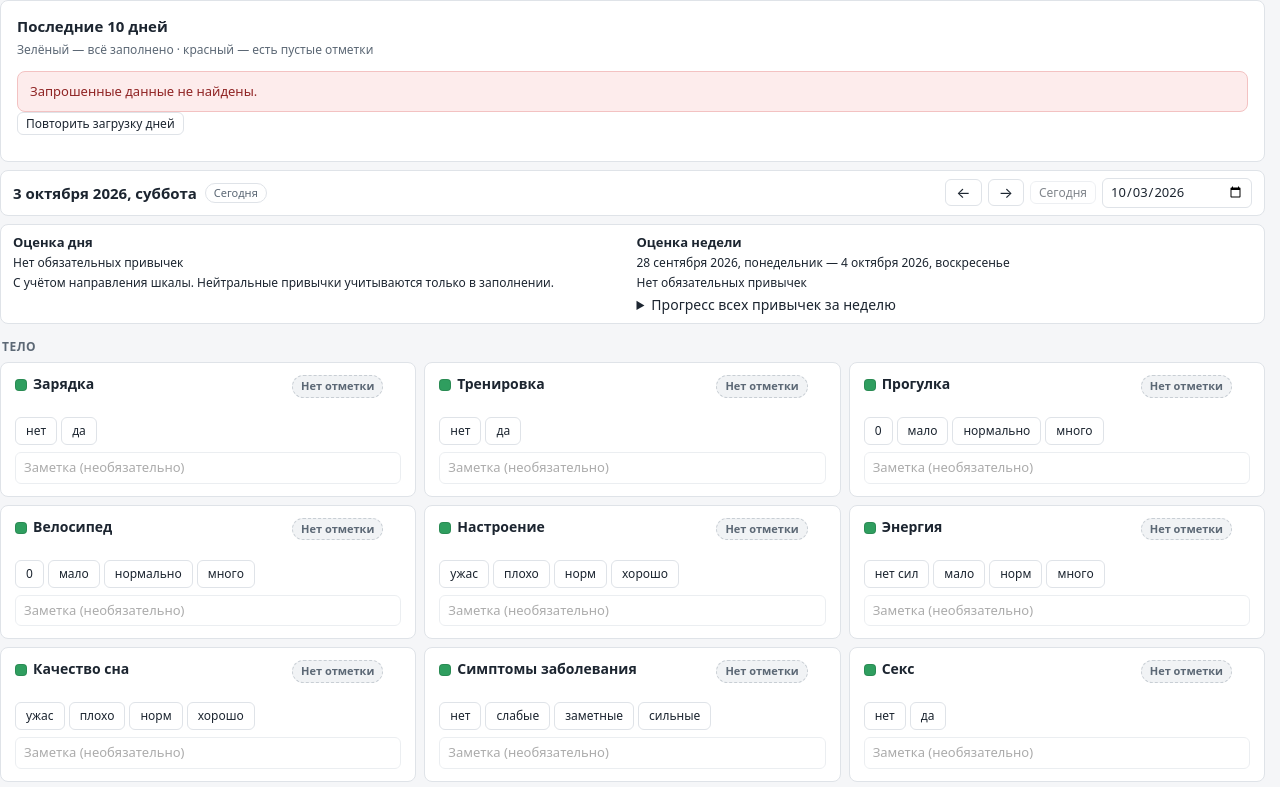
Scenario: CheckInPage — the day’s habits › disables answering on a future day
expect the text "Прогулка" is shown: met, box [882, 374, 950, 393]
Click the button named "Следующий день".
click(1006, 193)  # box [988, 179, 1024, 206]
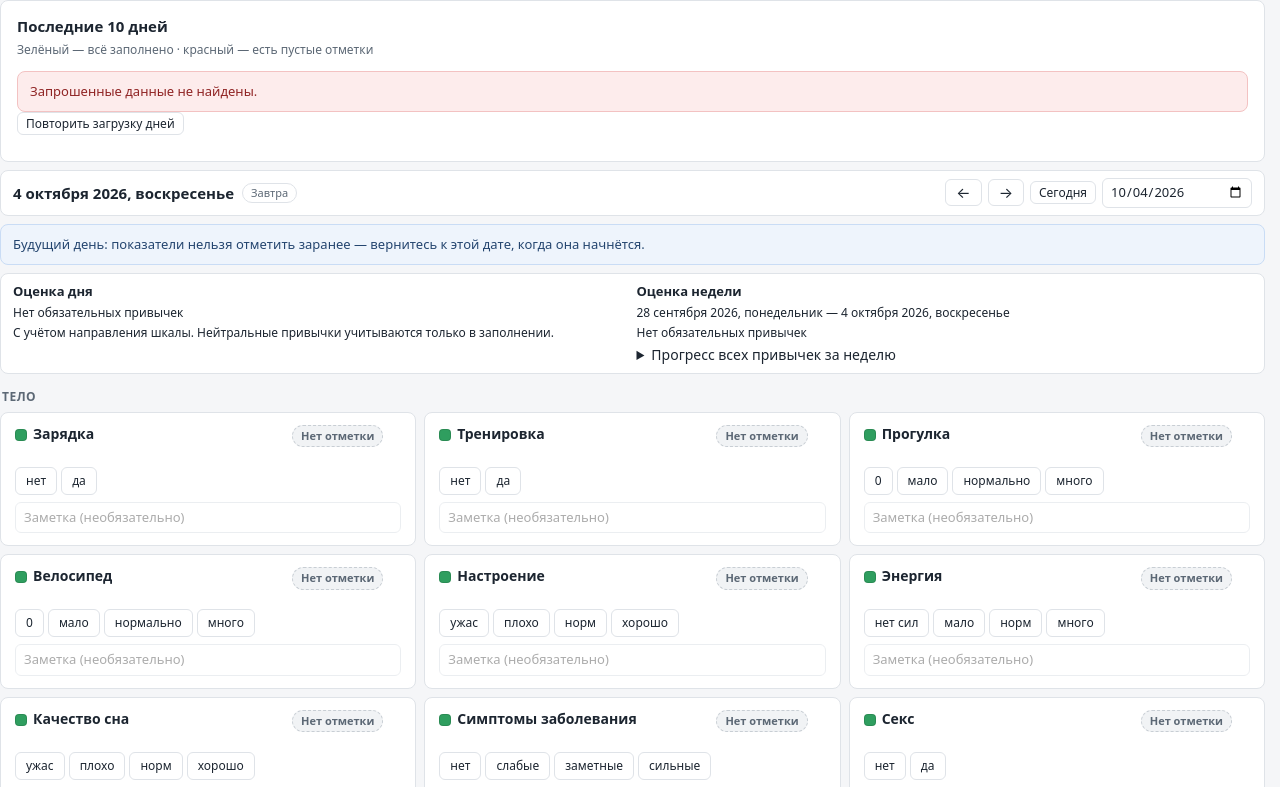
expect the text "Будущий день" is shown: met, box [13, 234, 645, 252]
expect the button "мало" below "Прогулка" is disabled: met, box [896, 466, 948, 494]
